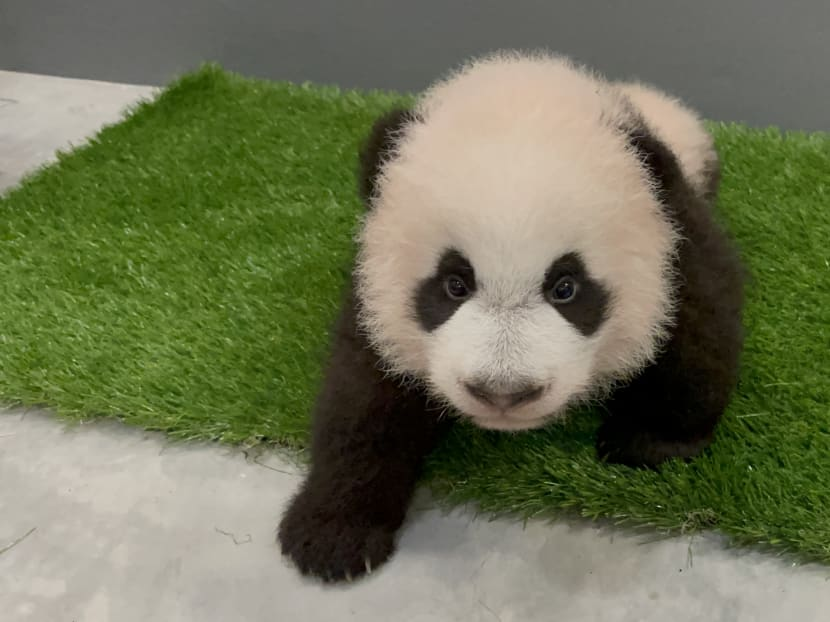panda: (287, 41, 756, 597)
